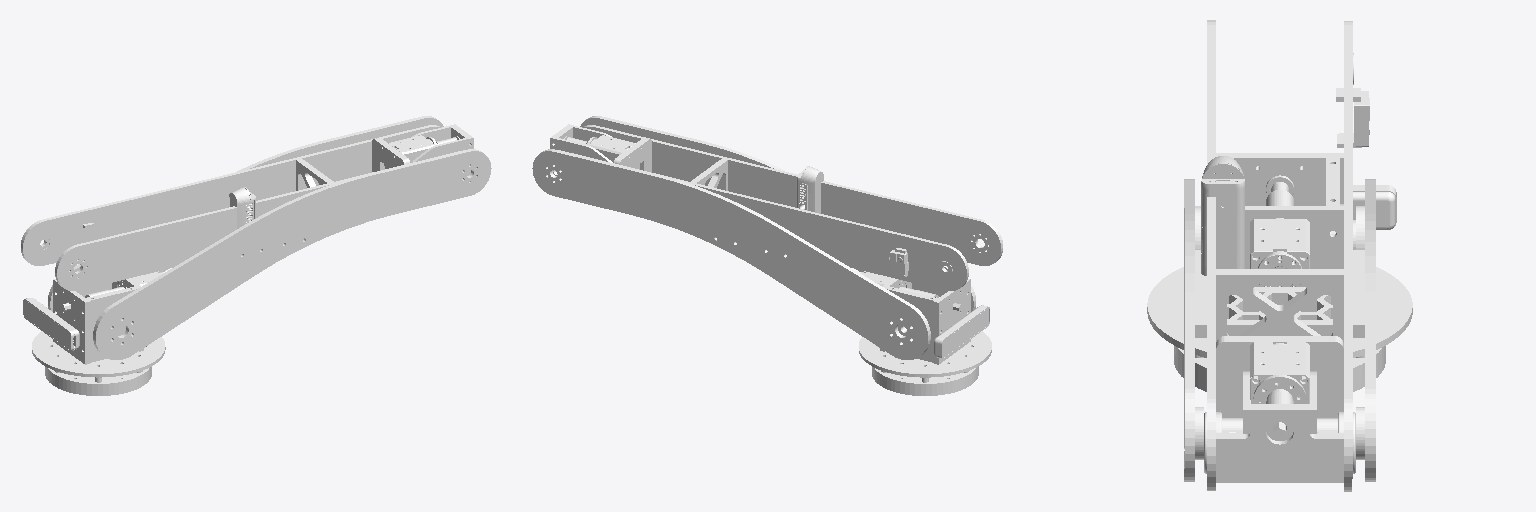
The robot description file, URDF, robot "sekirei":
<robot name="sekirei">
    <link name="base_link"/>
    <link name="arm_base_link">
        <visual>
            <geometry>
                <mesh filename="package://urdf_test_node/meshes/r_a_2019_2020_asm1.STL"/>
            </geometry>
            <origin xyz="-0.08 -0.081 0" rpy="1.57 0 0"/>
            <material name="white">
                <color rgba="1 1 1 1"/>
            </material>
        </visual>
    </link>
    <joint name="arm_base_link_joint" type="fixed">
        <origin xyz="0.2 0 0.1" rpy="0 0 0"/>
        <parent link="base_link"/>
        <child link="arm_base_link"/>
    </joint>
    <link name="arm1_link">
        <visual>
            <geometry>
                <mesh filename="package://urdf_test_node/meshes/r_a_2019_2020_asm2.STL"/>
            </geometry>
            <origin xyz="0 0 0.004" rpy="1.57 0 0"/>
            <material name="white">
                <color rgba="1 1 1 1"/>
            </material>
        </visual>
    </link>
    <joint name="arm_joint1" type="revolute">
        <origin xyz="0 0 0" rpy="0 0 0"/>
        <axis xyz="0 0 1"/>
        <parent link="arm_base_link"/>
        <child link="arm1_link"/>
        <limit effort="5" lower="-3.14" upper="3.14" velocity="1.571"/>
    </joint>
    <link name="arm2_link">
        <visual>
            <geometry>
                <mesh filename="package://urdf_test_node/meshes/r_a_2019_2020_asm3.STL"/>
            </geometry>
            <origin xyz="0 0 0" rpy="1.57 0 0"/>
            <material name="white">
                <color rgba="1 1 1 1"/>
            </material>
        </visual>
    </link>
    <joint name="arm_joint2" type="revolute">
        <origin xyz="0 -0.048 0.078" rpy="0 0 0"/>
        <axis xyz="0 1 0"/>
        <parent link="arm1_link"/>
        <child link="arm2_link"/>
        <limit effort="5" lower="-3.14" upper="0" velocity="1.571"/>
    </joint>
    <link name="arm3_link">
        <visual>
            <geometry>
                <mesh filename="package://urdf_test_node/meshes/r_a_2019_2020_asm4.STL"/>
            </geometry>
            <origin xyz="0 0 0" rpy="1.57 0 0"/>
            <material name="white">
                <color rgba="1 1 1 1"/>
            </material>
        </visual>
    </link>
    <joint name="arm_joint3" type="revolute">
        <origin xyz="0.45 0.007 0.084" rpy="0 0 0"/>
        <axis xyz="0 1 0"/>
        <parent link="arm2_link"/>
        <child link="arm3_link"/>
        <limit effort="5" lower="0" upper="3.14" velocity="1.571"/>
    </joint>
    <link name="arm4_link">
        <visual>
            <geometry>
                <mesh filename="package://urdf_test_node/meshes/r_a_2019_2020_asm5.STL"/>
            </geometry>
            <origin xyz="0 0 0" rpy="1.57 3.14 0"/>
            <material name="white">
                <color rgba="1 1 1 1"/>
            </material>
        </visual>
    </link>
    <joint name="arm_joint4" type="revolute">
        <origin xyz="-0.5 0.012 0" rpy="0 0 0"/>
        <axis xyz="0 1 0"/>
        <parent link="arm3_link"/>
        <child link="arm4_link"/>
        <limit effort="5" lower="-4.71" upper="0" velocity="1.571"/>
    </joint>
    <link name="arm5_link">
        <visual>
            <geometry>
                <mesh filename="package://urdf_test_node/meshes/r_a_2019_l_asm6.STL"/>
            </geometry>
            <origin xyz="0 0 0" rpy="1.57 3.14 0"/>
            <material name="white">
                <color rgba="1 1 1 1"/>
            </material>
        </visual>
    </link>
    <joint name="arm_joint5" type="revolute">
        <origin xyz="0.06525 0.028 0.029647" rpy="0 0 0"/>
        <axis xyz="0 0 1"/>
        <parent link="arm4_link"/>
        <child link="arm5_link"/>
        <limit effort="5" lower="-1.57" upper="1.57" velocity="1.571"/>
    </joint>
    <link name="arm6_link">
        <visual>
            <geometry>
                <mesh filename="package://urdf_test_node/meshes/r_a_2019_l_asm7_ver2.STL"/>
            </geometry>
            <origin xyz="0 0 0" rpy="0 3.14 0"/>
            <material name="white">
                <color rgba="1 1 1 1"/>
            </material>
        </visual>
    </link>
    <joint name="arm_joint6" type="revolute">
        <origin xyz="0.07425 0 -0.03" rpy="0 0 0"/>
        <axis xyz="1 0 0"/>
        <parent link="arm5_link"/>
        <child link="arm6_link"/>
        <limit effort="5" lower="-3.14" upper="3.14" velocity="1.571"/>
    </joint>
    <link name="gui_d435_link">
        <visual>
            <geometry>
                <mesh filename="package://urdf_test_node/meshes/d435.STL"/>
            </geometry>
            <origin xyz="0 0 0" rpy="1.57 0 -1.57"/>
            <material name="white">
                <color rgba="1 1 1 1"/>
            </material>
        </visual>
    </link>
    <joint name="gui_d435_joint" type="fixed">
        <origin xyz="0.066 -0.03105 0" rpy="1.57 0 0"/>
        <parent link="arm6_link"/>
        <child link="gui_d435_link"/>
    </joint>
    <link name="gui_t265_link">
        <visual>
            <geometry>
                <mesh filename="package://urdf_test_node/meshes/t265.STL"/>
            </geometry>
            <origin xyz="0 0 0" rpy="1.57 3.14 1.57"/>
            <material name="white">
                <color rgba="1 1 1 1"/>
            </material>
        </visual>
    </link>
    <joint name="gui_t265_joint" type="fixed">
        <origin xyz="-0.05945 0.02 0.073" rpy="3.14 3.14 0"/>
        <!--        <parent link="arm_base_link"/>-->
        <parent link="arm1_link"/>
        <child link="gui_t265_link"/>
    </joint>

</robot>

--- What the picture shows (computed from the rendered views, not written in the file) ---
3 views of the same robot in one strip: view 1: azimuth 30°, elevation 25°; view 2: azimuth 150°, elevation 25°; view 3: azimuth 270°, elevation 25° (orthographic).
Model sekirei with 10 links and 9 joints (6 revolute, 3 fixed), rooted at base_link, posed every joint at zero.
Visible links, largest first — view 1: arm3_link, arm2_link, arm1_link, gui_t265_link, gui_d435_link; view 2: arm3_link, arm2_link, arm1_link, gui_t265_link, gui_d435_link; view 3: arm3_link, arm1_link, arm2_link, gui_d435_link, gui_t265_link.
Link boxes in pixels (x1,y1,x2,y2): arm3_link: (21,124,473,290); arm2_link: (48,116,491,359); arm1_link: (32,271,165,395); gui_t265_link: (23,298,79,350); gui_d435_link: (229,187,255,228); arm3_link: (550,124,1002,290); arm2_link: (532,116,975,359); arm1_link: (859,271,991,395); gui_t265_link: (934,305,989,358); gui_d435_link: (796,166,823,213); arm3_link: (1204,20,1369,491); arm1_link: (1147,153,1412,399); arm2_link: (1184,179,1375,481); gui_d435_link: (1201,156,1244,275); gui_t265_link: (1353,185,1396,229).
Size in the robot's own frame: 0.555 by 0.15 by 0.2026 metres.
5 mesh visuals loaded from 9 distinct referenced files (5 binary STL); not drawn: 4 (reference not matched to a file when rendering).